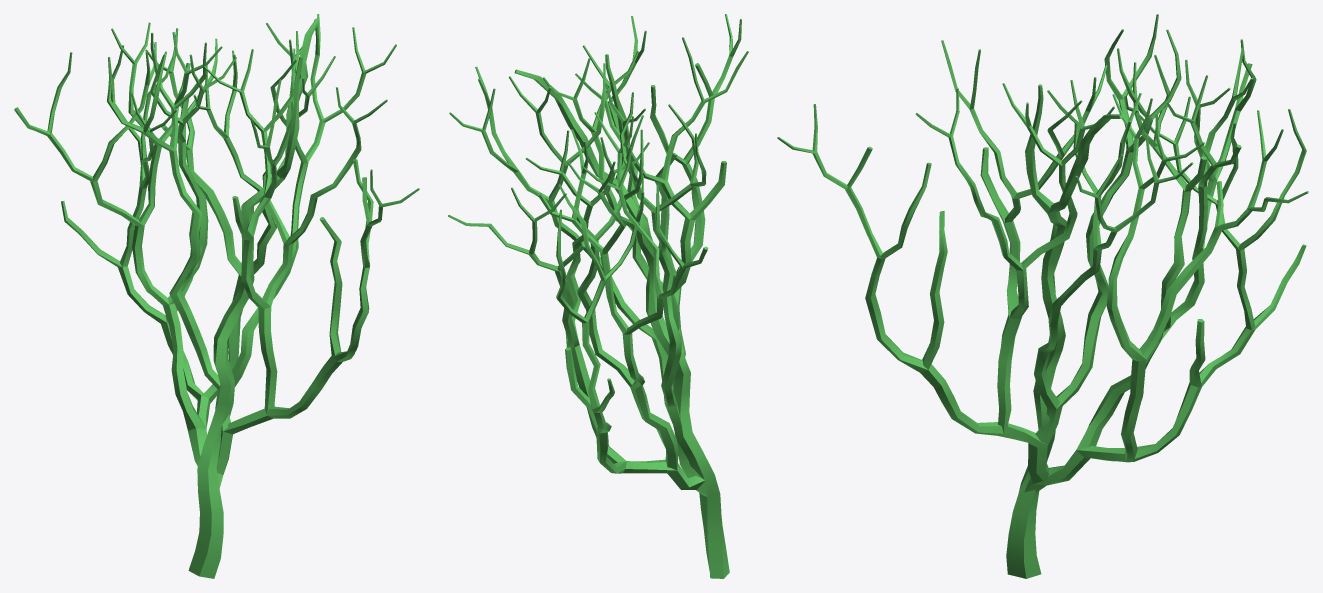
The model's file is jungle_wiggle_tree_E.fbx.
3 views of the same model, side by side, from view 1: azimuth 30°, elevation 25°; view 2: azimuth 150°, elevation 25°; view 3: azimuth 270°, elevation 25° (orthographic). The views are drawn at different scales.
Visible parts, largest first — view 1: jungle_wiggle_tree_E_A, jungle_wiggle_tree_E_B; view 2: jungle_wiggle_tree_E_A, jungle_wiggle_tree_E_B; view 3: jungle_wiggle_tree_E_A, jungle_wiggle_tree_E_B.
Boxes of the visible parts, x1,y1,x2,y2 form: jungle_wiggle_tree_E_A: [14, 14, 419, 488]; jungle_wiggle_tree_E_B: [188, 18, 319, 578]; jungle_wiggle_tree_E_A: [448, 14, 748, 496]; jungle_wiggle_tree_E_B: [514, 54, 729, 578]; jungle_wiggle_tree_E_A: [777, 14, 1308, 492]; jungle_wiggle_tree_E_B: [1006, 84, 1123, 578].
Size of the model in its own units: 595 by 925 by 803.
